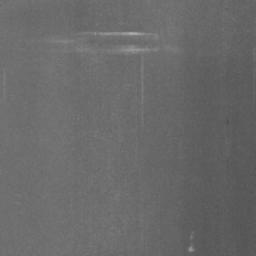Waist folding: (88, 45, 158, 54), (79, 31, 157, 38), (187, 232, 195, 253)
